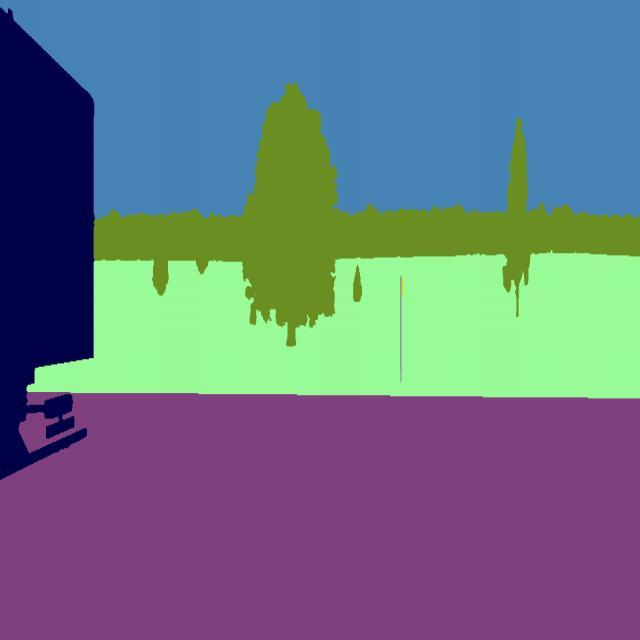unsafe: (0, 0, 98, 477)
